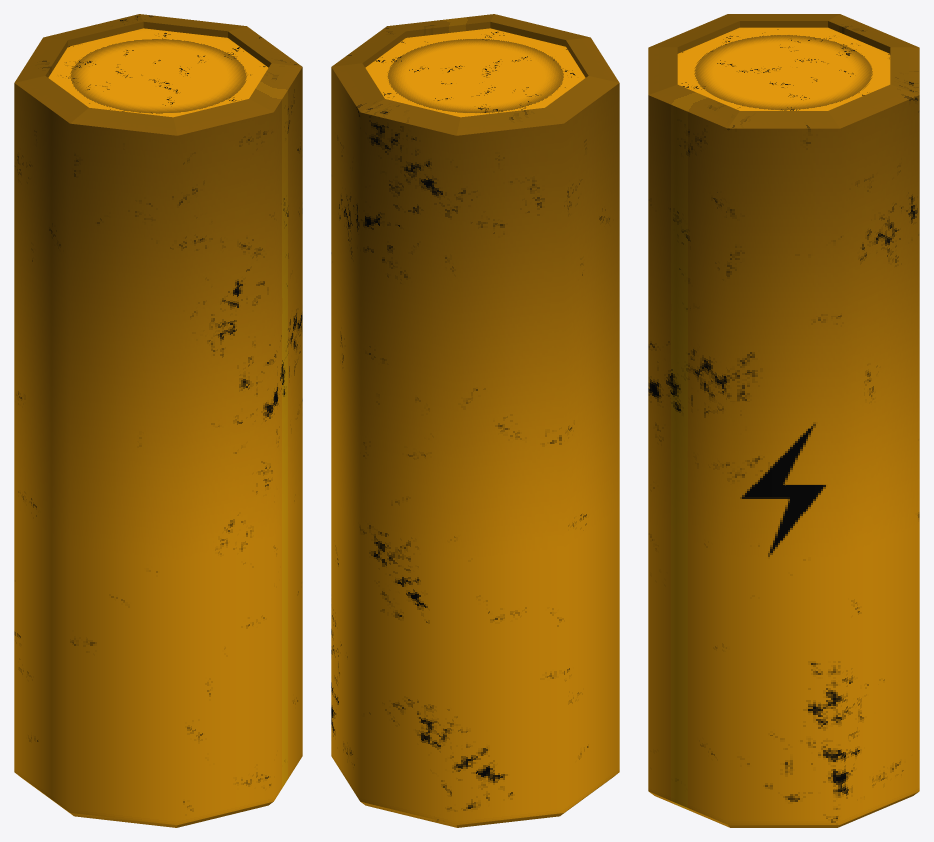
File: battery.gltf
The picture shows the model from 3 angles, left to right: view 1: azimuth 30°, elevation 25°; view 2: azimuth 150°, elevation 25°; view 3: azimuth 270°, elevation 25°; orthographic projection.
Parts seen in each view (by area): view 1: Battery; view 2: Battery; view 3: Battery.
Part boxes in pixels (bbox=[...]): Battery: bbox=[14, 14, 302, 827]; Battery: bbox=[331, 14, 619, 827]; Battery: bbox=[648, 14, 919, 827].
Size of the model in its own units: 0.8317 by 2.4 by 0.8317.
Materials: 1 (1 with a texture image).
